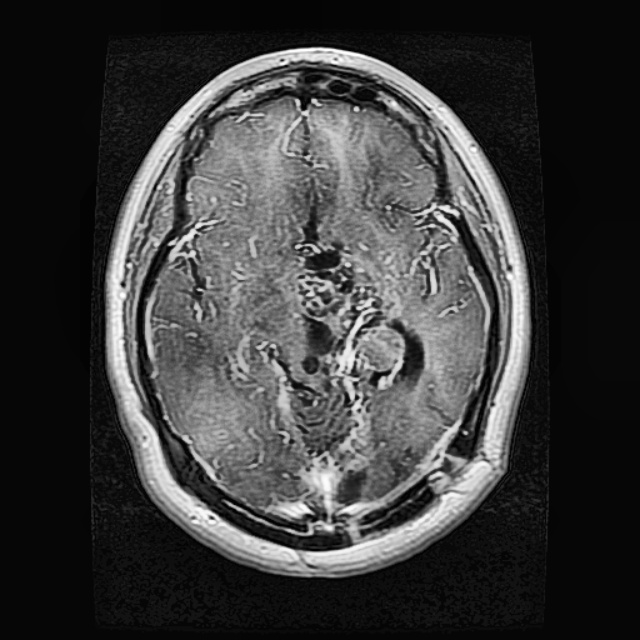Meningioma: (299, 217, 425, 497)
